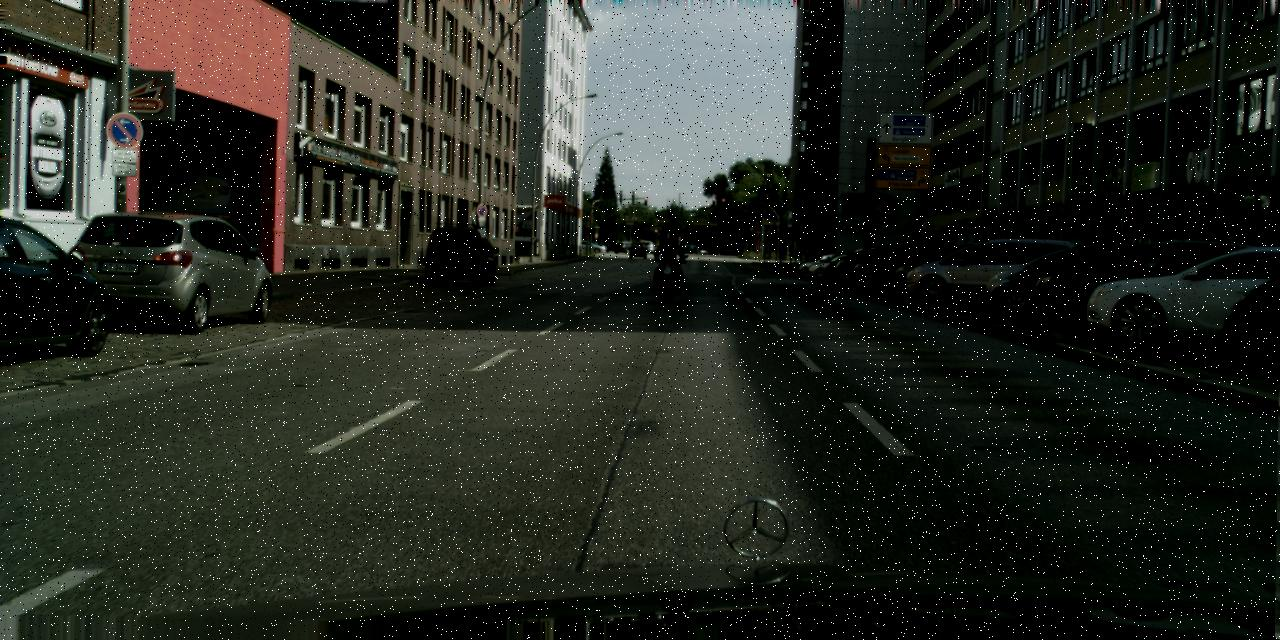ped: (969, 236, 995, 300), (655, 231, 679, 291)
